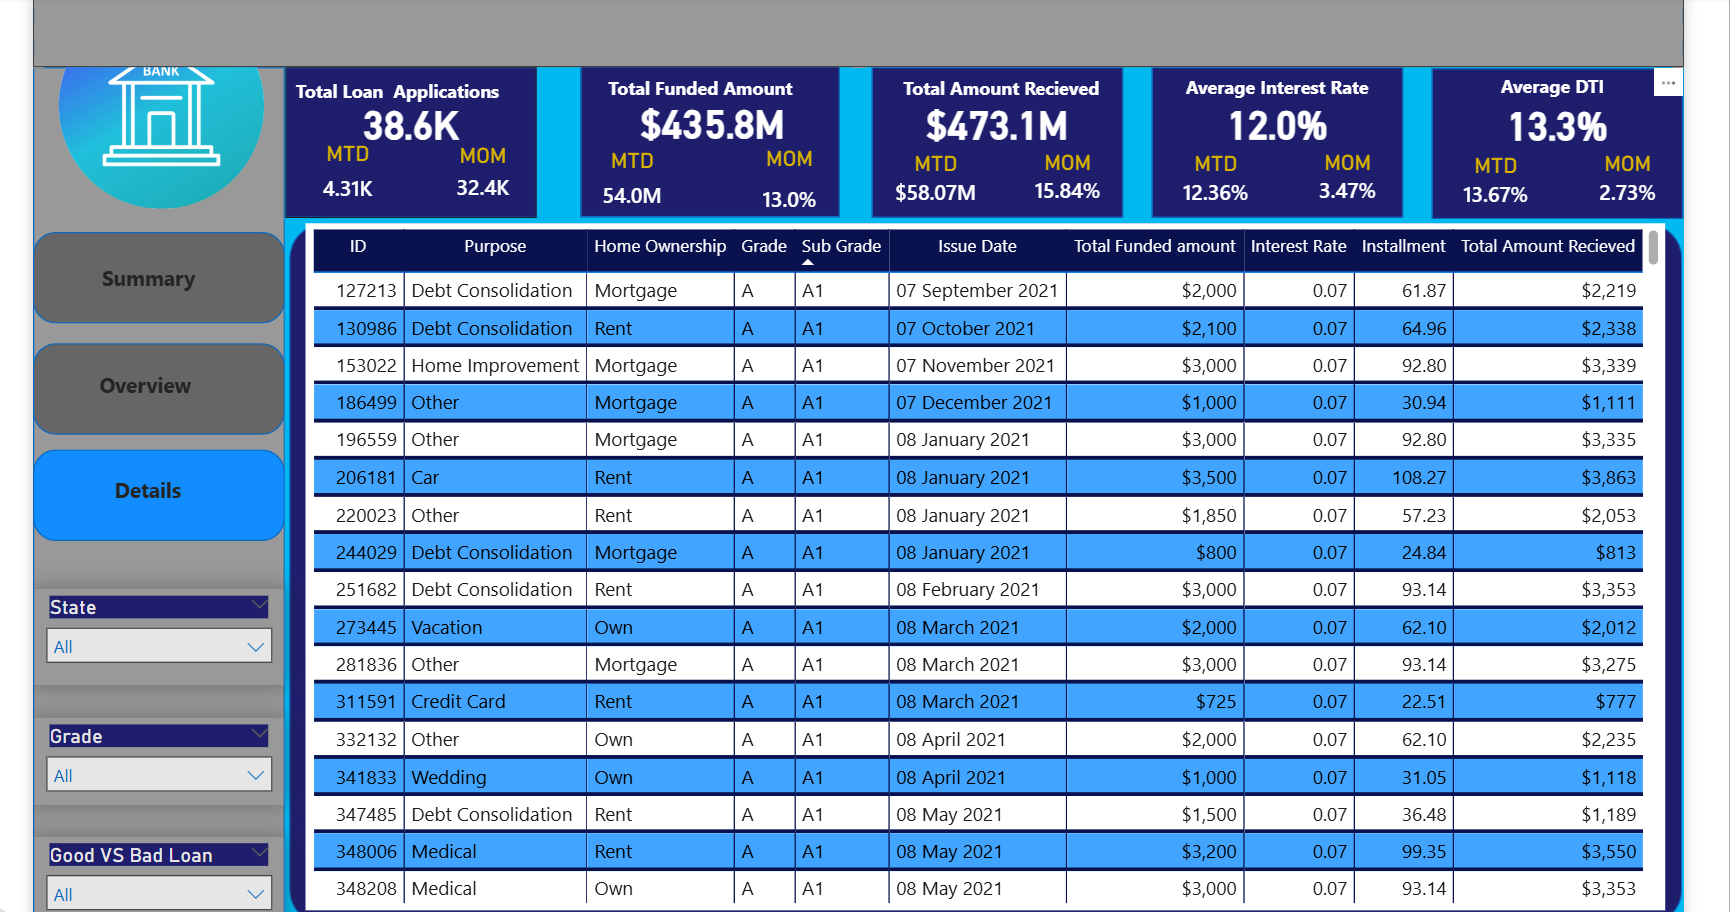

What the dashboard file says about the page in this screenshot:
{"tool":"powerbi","page":{"name":"Details","canvas":[1280,720],"ordinal":2},"visuals":[{"type":"shape","box":[195.3,54.7,195,117],"z":0,"group":"g1"},{"type":"shape","box":[650,54.7,195,117],"z":0,"group":"g2"},{"type":"shape","box":[867.4,54.7,195,117],"z":0,"group":"g3"},{"type":"shape","box":[1084.9,55.8,195,117],"z":0,"group":"g4"},{"type":"shape","box":[198.8,175.6,1080.2,544.2],"z":0},{"type":"shape","box":[0,54.7,195.3,665.1],"z":1000},{"type":"card","fields":{"Values":["banking.Total Loan Applications"]},"box":[220.9,73.3,144.2,50],"z":1000,"group":"g1"},{"type":"card","fields":{"Values":["banking.Total Amount Recieved"]},"box":[675.6,73.3,144.2,50],"z":1000,"group":"g2"},{"type":"card","fields":{"Values":["banking.Average Int rate"]},"box":[893,73.3,144.2,50],"z":1000,"group":"g3"},{"type":"card","fields":{"Values":["banking.Average DTI"]},"box":[1110.5,74.4,144.2,50],"z":1000,"group":"g4"},{"type":"shape","box":[0,0,1280.2,54.7],"z":2000},{"type":"textbox","box":[1133.4,54.7,114,34.9],"z":2000,"group":"g4"},{"type":"textbox","box":[889.1,55.3,177.9,40.7],"z":2000,"group":"g3"},{"type":"textbox","box":[669.7,56.9,177.9,40.7],"z":2000,"group":"g2"},{"type":"textbox","box":[198.6,58.9,191.2,37.5],"z":2000,"group":"g1"},{"type":"shape","box":[424.4,53.5,201.2,117.4],"z":3000},{"type":"card","title":"MTD","fields":{"Values":["banking.MTD Loan Applications"]},"box":[210,112.1,67.4,58.1],"z":3000,"group":"g1"},{"type":"card","title":"MTD","fields":{"Values":["banking.MTD Amount Recieved"]},"box":[660.4,119.8,77.9,50],"z":3000,"group":"g2"},{"type":"card","title":"MTD","fields":{"Values":["banking.MTD Int Rate"]},"box":[877.8,119.8,77.9,50],"z":3000,"group":"g3"},{"type":"card","title":"MTD","fields":{"Values":["banking.MTD DTI"]},"box":[1095.3,120.9,77.9,50],"z":3000,"group":"g4"},{"type":"card","fields":{"Values":["banking.Total funded amount"]},"box":[440.7,64,172.1,65.1],"z":4000},{"type":"card","title":"MOM","fields":{"Values":["banking.MOM Amount Recieved"]},"box":[759.2,118.5,84.9,48.8],"z":4000,"group":"g2"},{"type":"card","title":"MOM","fields":{"Values":["banking.MOM Int Rate"]},"box":[976.6,118.5,84.9,48.8],"z":4000,"group":"g3"},{"type":"card","title":"MOM","fields":{"Values":["banking.MOM DTI"]},"box":[1194.1,119.6,84.9,48.8],"z":4000,"group":"g4"},{"type":"textbox","box":[409.3,3.5,439.5,50],"z":5000},{"type":"textbox","box":[440.7,55.8,170.9,36],"z":6000},{"type":"group","id":"g1","title":"Group 1","box":[195.3,54.7,195,117],"z":7000},{"type":"card","title":"MTD","fields":{"Values":["banking.MTD Funded Amount"]},"box":[424.4,116.3,80.2,59.3],"z":8000},{"type":"card","title":"MOM","fields":{"Values":["banking.MOM Funded Amount"]},"box":[547.7,115.1,77.9,67.4],"z":9000},{"type":"card","title":"MOM","fields":{"Values":["banking.MOM Applications"]},"box":[317.4,112.8,64,54.7],"z":10000},{"type":"group","id":"g2","title":"Group 1","box":[650,54.7,197.7,117.4],"z":11000},{"type":"group","id":"g3","title":"Group 1","box":[867.4,54.7,200,117.4],"z":12000},{"type":"group","id":"g4","title":"Group 1","box":[1084.9,54.7,195.3,118.6],"z":13000},{"type":"slicer","fields":{"Values":["banking.address_state"]},"box":[0,459.3,195.3,74.4],"z":14000},{"type":"slicer","fields":{"Values":["banking.grade"]},"box":[0,559.3,195.3,67.4],"z":15000},{"type":"slicer","fields":{"Values":["banking.Good vs bad loan"]},"box":[0,651.2,195.3,68.6],"z":16000},{"type":"tableEx","fields":{"Values":["Sum(banking.id)","banking.purpose","banking.home_ownership","banking.Grade","banking.Sub_grade","banking.Issue_date","banking.Total Funded amount","Sum(banking.Int_rate)","Sum(banking.installment)","banking.Total Amount Recieved"]},"box":[211.6,175.6,1054.7,532.6],"z":17000},{"type":"shape","box":[0,351.2,195.3,70.9],"z":18000},{"type":"shape","box":[0,268.6,195.3,70.9],"z":19000},{"type":"shape","box":[0,182.6,195.3,70.9],"z":20000},{"type":"image","box":[0,0,198.8,168.6],"z":21000},{"type":"textbox","box":[48.8,201.2,97.7,38.4],"z":22000},{"type":"textbox","box":[46.5,284.9,105.8,38.4],"z":23000},{"type":"textbox","box":[58.1,366.3,88.4,40.7],"z":24000},{"type":"shape","box":[23.3,189.5,146.5,64],"z":25000}]}

Visuals, with their boxes on the page's 1280x720 design canvas (x1, y1, x2, y2). These are canvas units, not pixel positions in the 1731x912 screenshot, which may show the page scaled, cropped or inside an application window:
shape: 195/55/390/172
shape: 650/55/845/172
shape: 867/55/1062/172
shape: 1085/56/1280/173
shape: 199/176/1279/720
shape: 0/55/195/720
card - banking.Total Loan Applications: 221/73/365/123
card - banking.Total Amount Recieved: 676/73/820/123
card - banking.Average Int rate: 893/73/1037/123
card - banking.Average DTI: 1110/74/1255/124
shape: 0/0/1280/55
textbox: 1133/55/1247/90
textbox: 889/55/1067/96
textbox: 670/57/848/98
textbox: 199/59/390/96
shape: 424/54/626/171
"MTD" card: 210/112/277/170
"MTD" card: 660/120/738/170
"MTD" card: 878/120/956/170
"MTD" card: 1095/121/1173/171
card - banking.Total funded amount: 441/64/613/129
"MOM" card: 759/118/844/167
"MOM" card: 977/118/1062/167
"MOM" card: 1194/120/1279/168
textbox: 409/4/849/54
textbox: 441/56/612/92
"Group 1" group: 195/55/390/172
"MTD" card: 424/116/505/176
"MOM" card: 548/115/626/182
"MOM" card: 317/113/381/168
"Group 1" group: 650/55/848/172
"Group 1" group: 867/55/1067/172
"Group 1" group: 1085/55/1280/173
slicer - banking.address_state: 0/459/195/534
slicer - banking.grade: 0/559/195/627
slicer - banking.Good vs bad loan: 0/651/195/720
tableEx - Sum(banking.id) x banking.purpose: 212/176/1266/708
shape: 0/351/195/422
shape: 0/269/195/340
shape: 0/183/195/254
image: 0/0/199/169
textbox: 49/201/146/240
textbox: 46/285/152/323
textbox: 58/366/146/407
shape: 23/190/170/254
